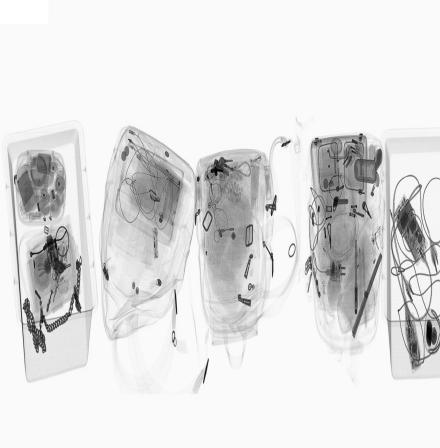Lighter: (164, 167, 182, 189), (152, 227, 158, 260)
